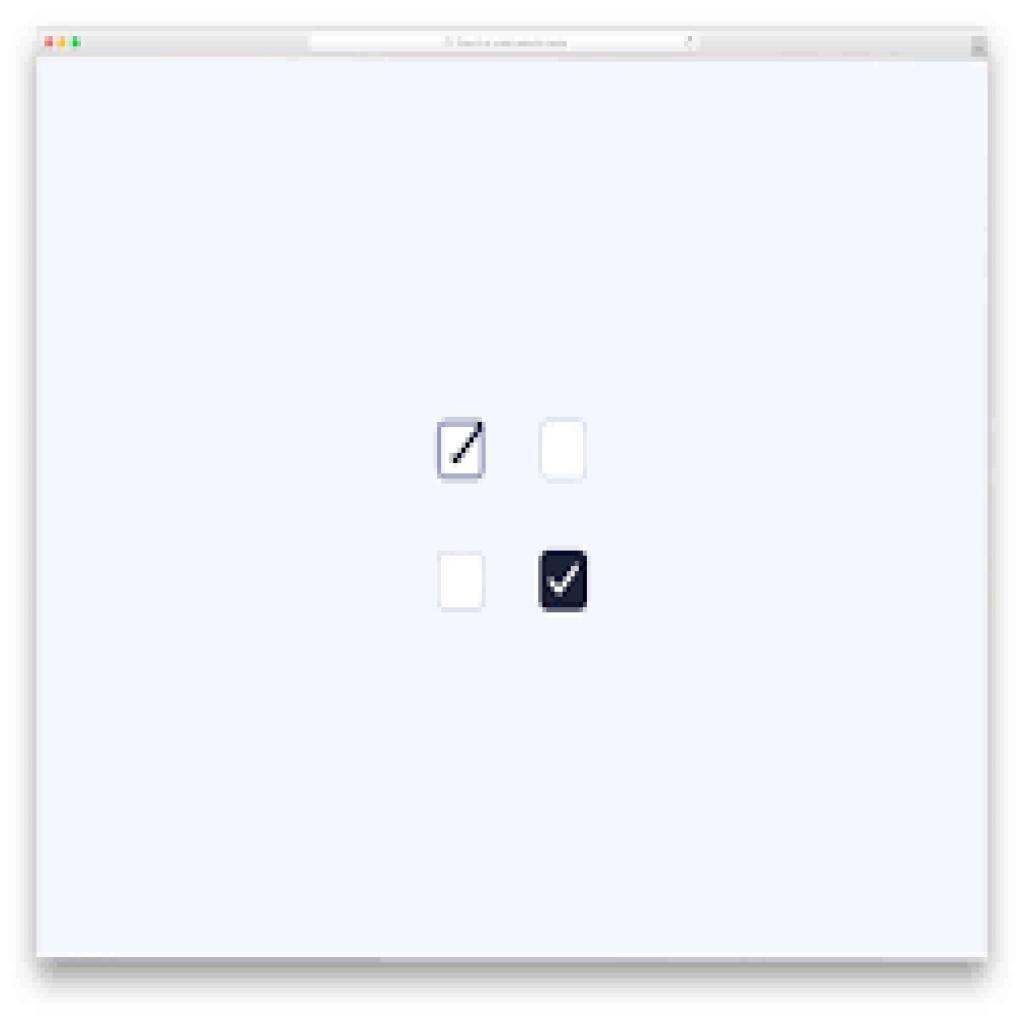checkbox: (539, 548, 590, 612), (540, 417, 586, 485), (435, 422, 487, 479), (440, 549, 485, 613)
